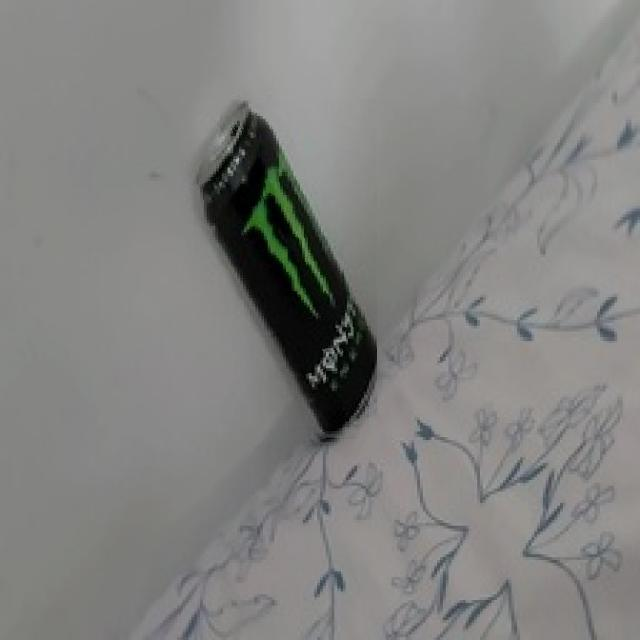recyclable: (194, 99, 377, 446)
